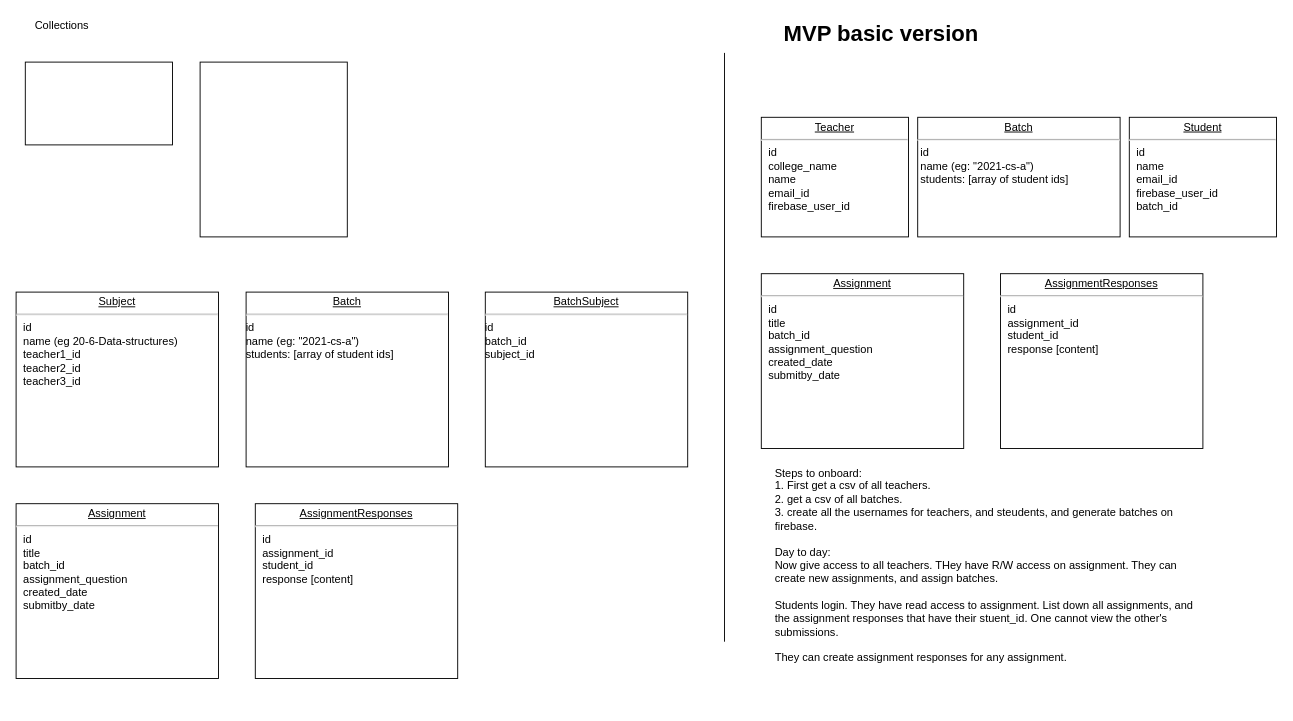
The diagram is 1293 pixels wide and 721 high, and some of its shapes have lost their labels. The shapes that lost their labels are listed below. From the top down, each one's box as (x1, y1, x2, y2) in pixels, then its label:
(24, 61, 172, 145): College id name
(199, 61, 347, 237): Teacher id college_id name email_id firebase_user_id
